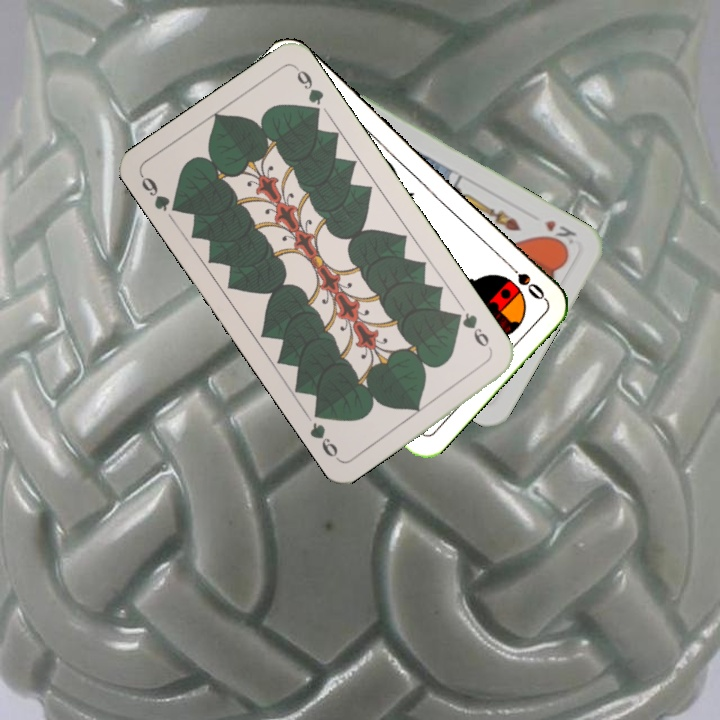G9: (449, 308, 495, 355), (137, 171, 185, 216)
HK: (538, 216, 579, 253)
SO: (501, 257, 548, 302)
